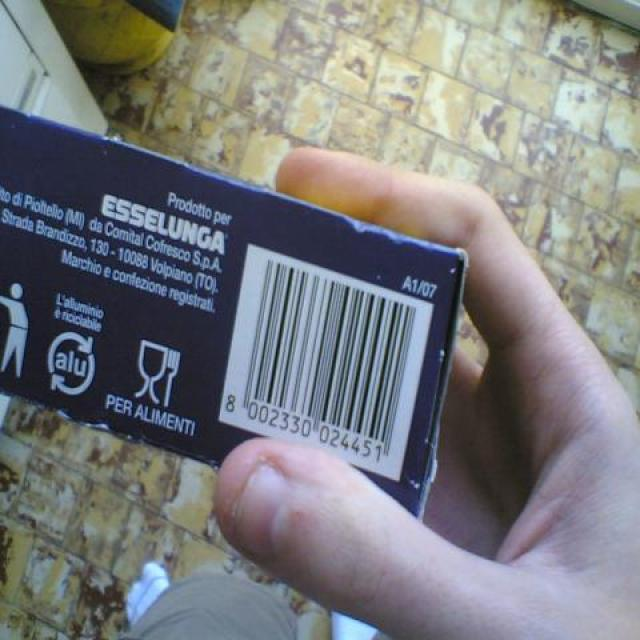Barcode: (217, 240, 435, 481)
